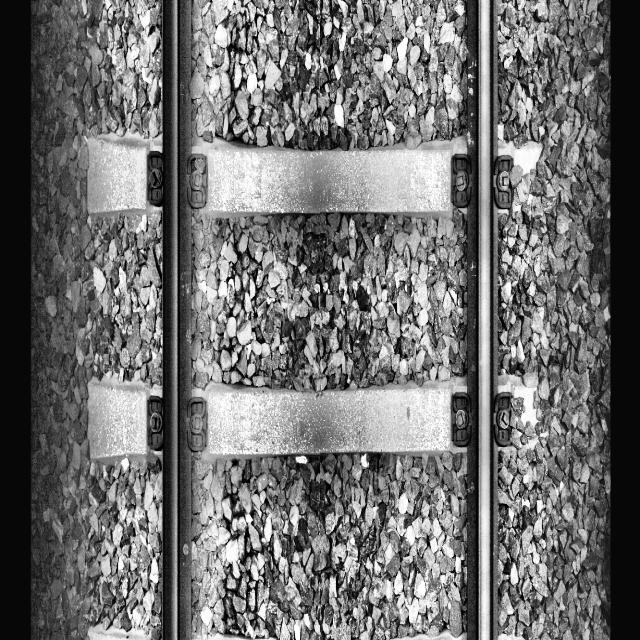Clips: (491, 391, 522, 448), (448, 389, 476, 450), (184, 152, 213, 209), (448, 150, 475, 210), (491, 154, 518, 210), (187, 396, 211, 455), (146, 391, 168, 453), (146, 147, 166, 208)
Sleepers: (83, 376, 554, 468), (80, 130, 554, 221)
